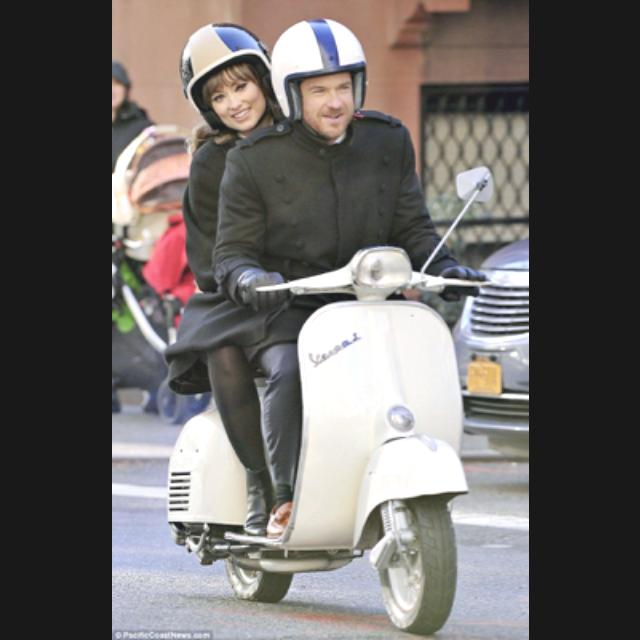With Helmet: (265, 10, 377, 146)
